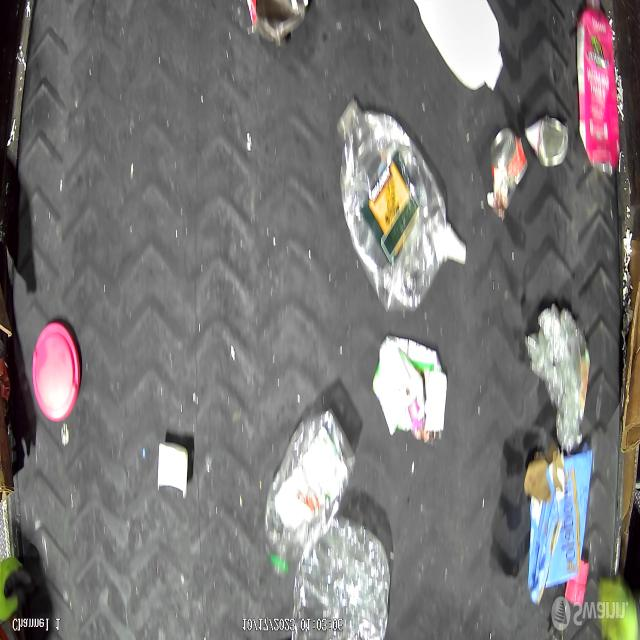can: (489, 127, 527, 218), (524, 116, 567, 168)
milk_jug: (417, 0, 504, 93)
plastic_bottle: (337, 101, 451, 310), (265, 409, 353, 575)
